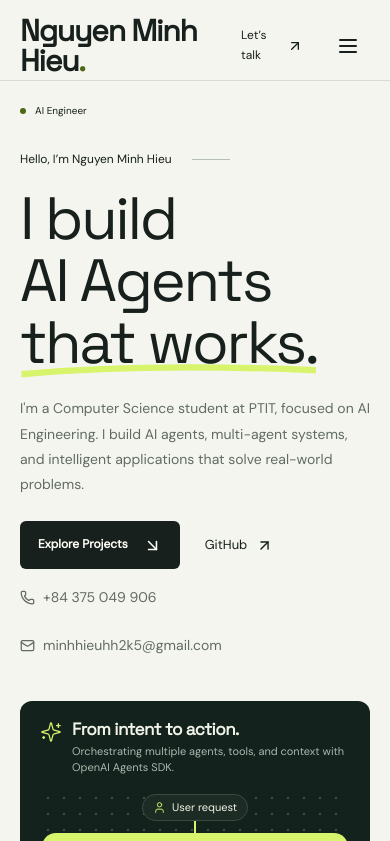
portfolio journeys › closes navigation after selecting a section
This screenshot has width=390, height=841.
Click the button named "Open navigation": (348,46) [326,24,370,68]
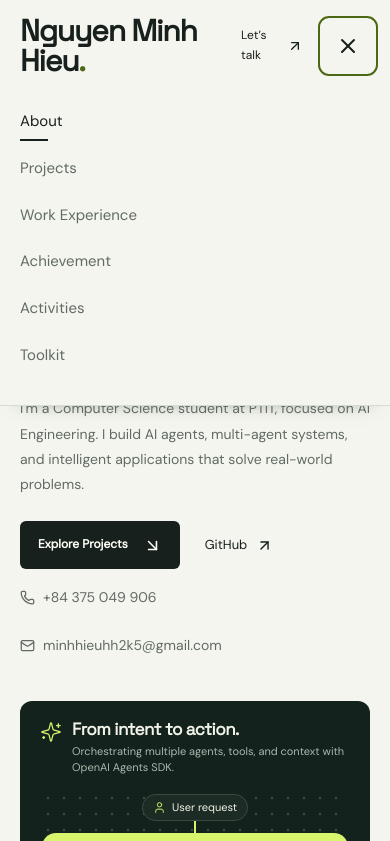
Click the link "Projects": (48,168) [20,158,77,178]
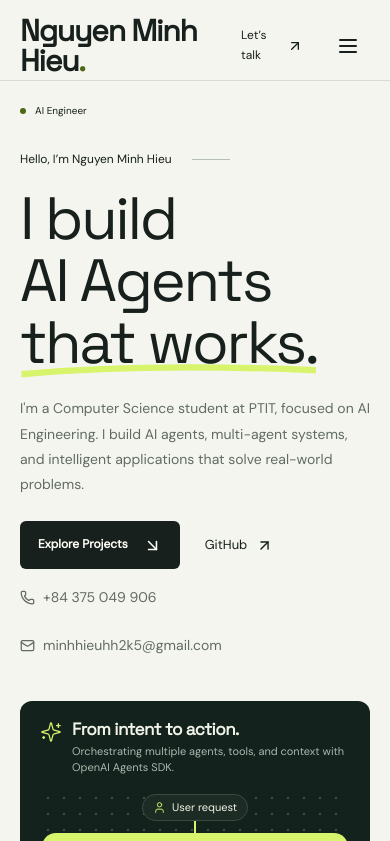
Expected: the button named "Open navigation" is collapsed, [326,24,370,68]
